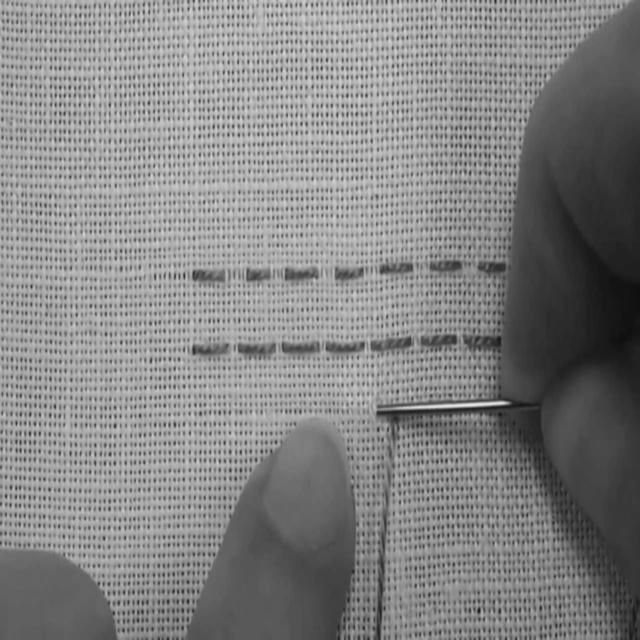stitch: (191, 338, 231, 357), (370, 333, 412, 351), (284, 264, 320, 284), (462, 333, 501, 350), (190, 267, 228, 284), (238, 340, 276, 357), (379, 258, 414, 276), (420, 331, 456, 348), (335, 264, 365, 282), (245, 264, 274, 282), (281, 340, 320, 353), (325, 340, 364, 353), (430, 258, 461, 271), (478, 260, 506, 272)
